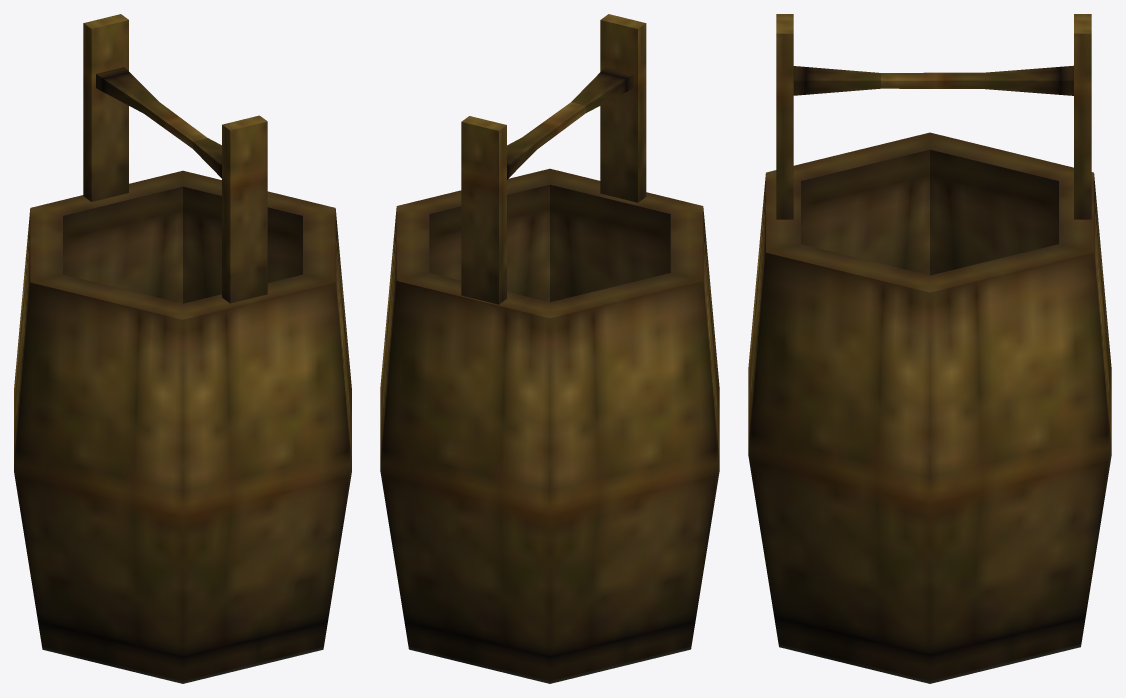
The model's file is xsc_qt_jing02.FBX.
3 renders of one model, left to right at view 1: azimuth 30°, elevation 25°; view 2: azimuth 150°, elevation 25°; view 3: azimuth 270°, elevation 25°, orthographic. The views are drawn at different scales.
Visible parts, largest first — view 1: xsc_qt_jing02_01A; view 2: xsc_qt_jing02_01A; view 3: xsc_qt_jing02_01A.
Part boxes in pixels (x1,y1,x2,y2): xsc_qt_jing02_01A: (14, 14, 351, 683); xsc_qt_jing02_01A: (380, 14, 719, 683); xsc_qt_jing02_01A: (748, 14, 1111, 683).
Bounding box in the file's own units: 23.53 × 36.14 × 20.38.
